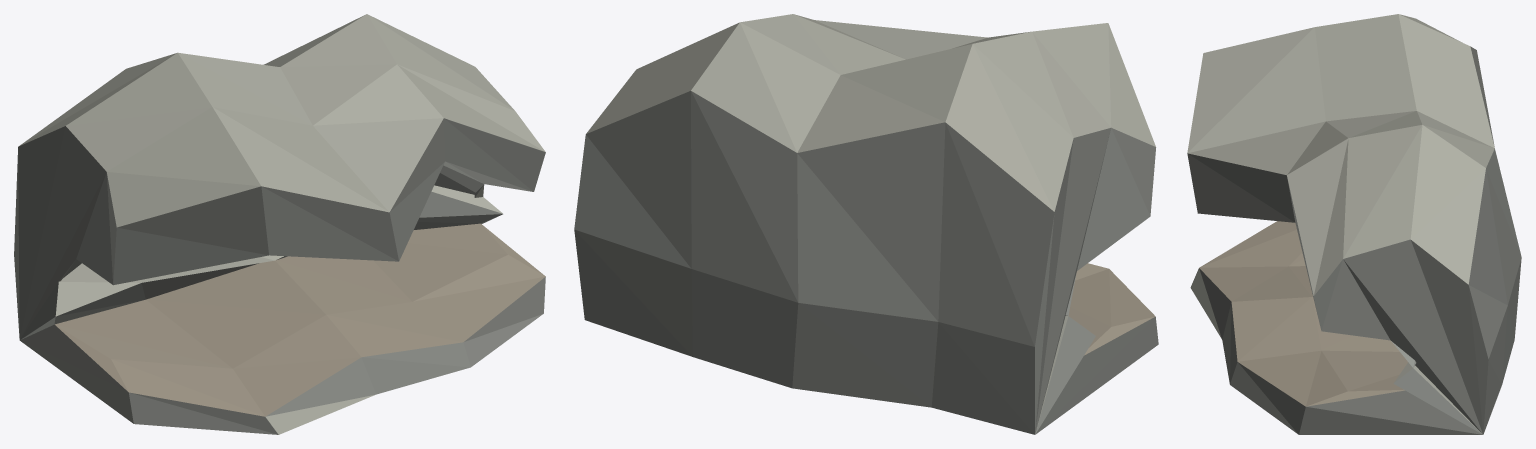
3 views of the same model, side by side, from view 1: azimuth 30°, elevation 25°; view 2: azimuth 150°, elevation 25°; view 3: azimuth 270°, elevation 25° (orthographic). The views are drawn at different scales.
Parts seen in each view (by area): view 1: WholeWideUndercutRockCliff; view 2: WholeWideUndercutRockCliff; view 3: WholeWideUndercutRockCliff.
Part boxes in pixels (box(x1,y1,x2,y2)): WholeWideUndercutRockCliff: box(14, 14, 545, 434); WholeWideUndercutRockCliff: box(574, 14, 1158, 434); WholeWideUndercutRockCliff: box(1187, 14, 1521, 434).
Bounding box in the file's own units: 4.61 × 2.98 × 3.24.
